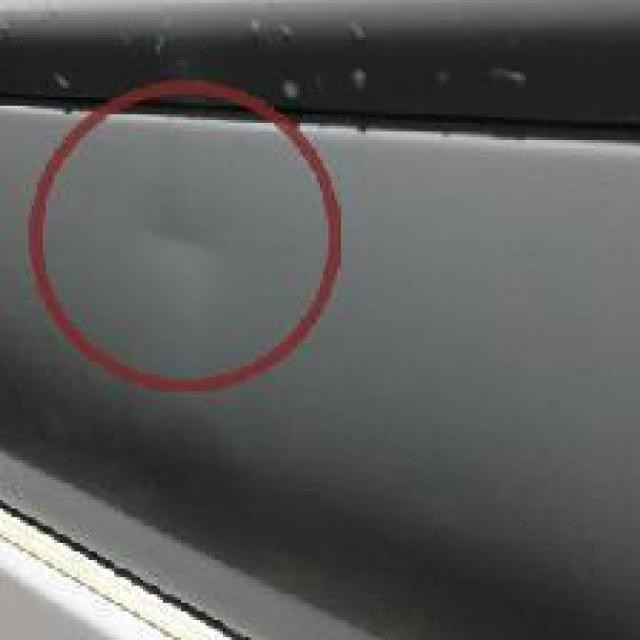damaged: (17, 75, 340, 392)
